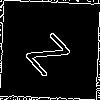Z: (24, 24, 78, 78)
